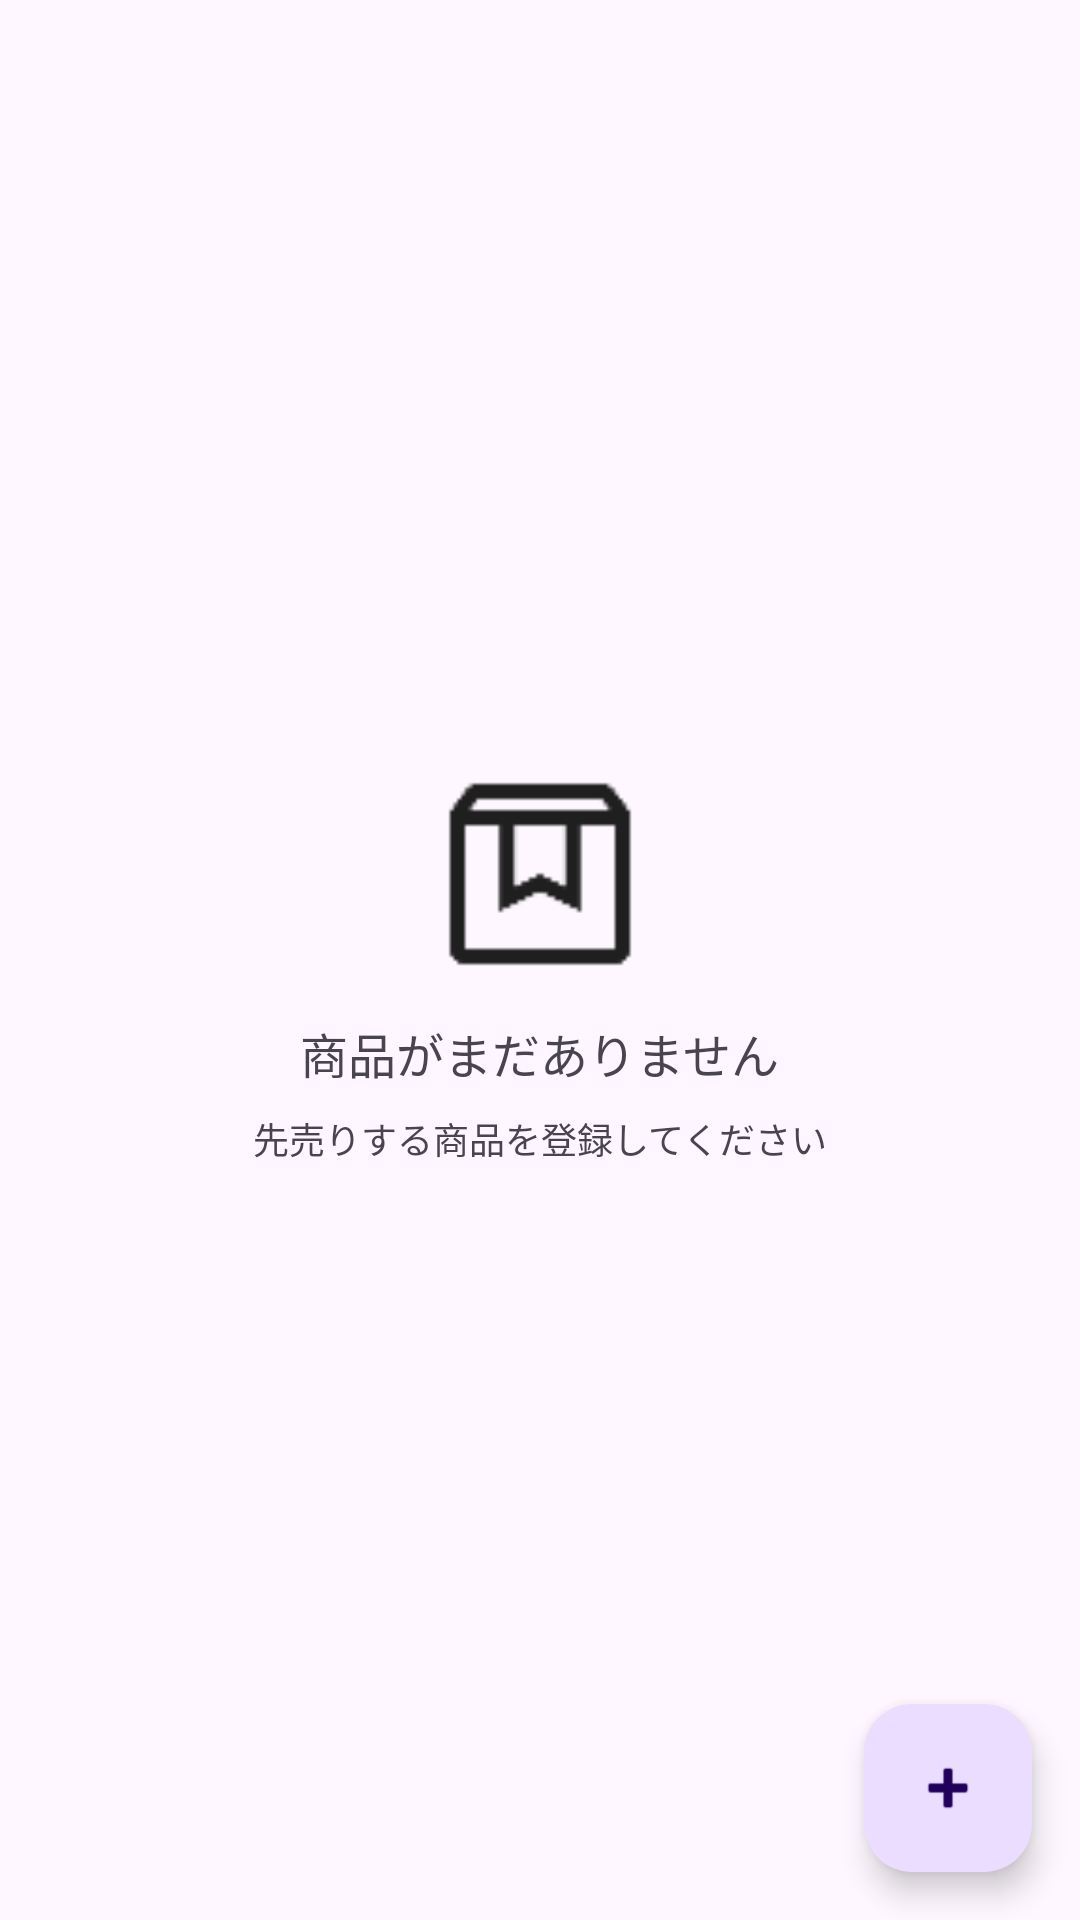

Where to tap for icons on this 1080×1920 app screen, as (x,y):
商品を追加: (948,1788)
